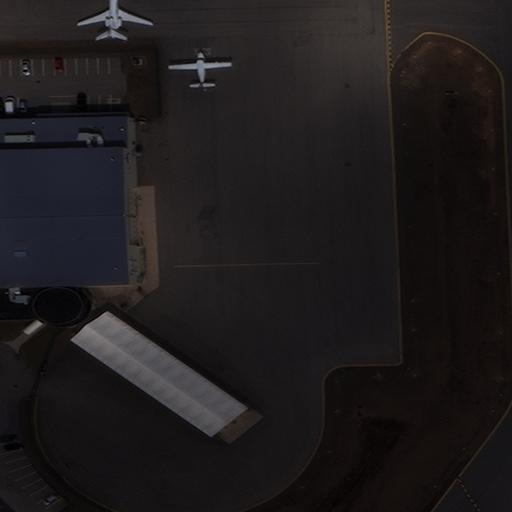Medium Civil Transport: (76, 0, 153, 38), (167, 51, 231, 87)
